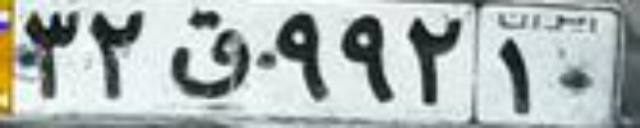0: (552, 66, 596, 94)
1: (495, 38, 531, 113)
2: (90, 10, 154, 99), (408, 15, 463, 104)
3: (25, 9, 81, 100)
9: (274, 11, 331, 103), (341, 13, 395, 103)
ghaf: (169, 9, 253, 100)
